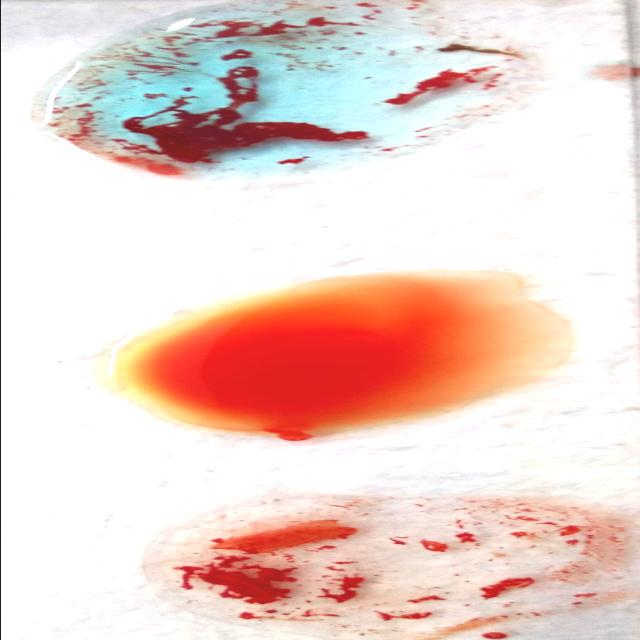A: (32, 9, 525, 174)
D: (162, 494, 630, 632)
